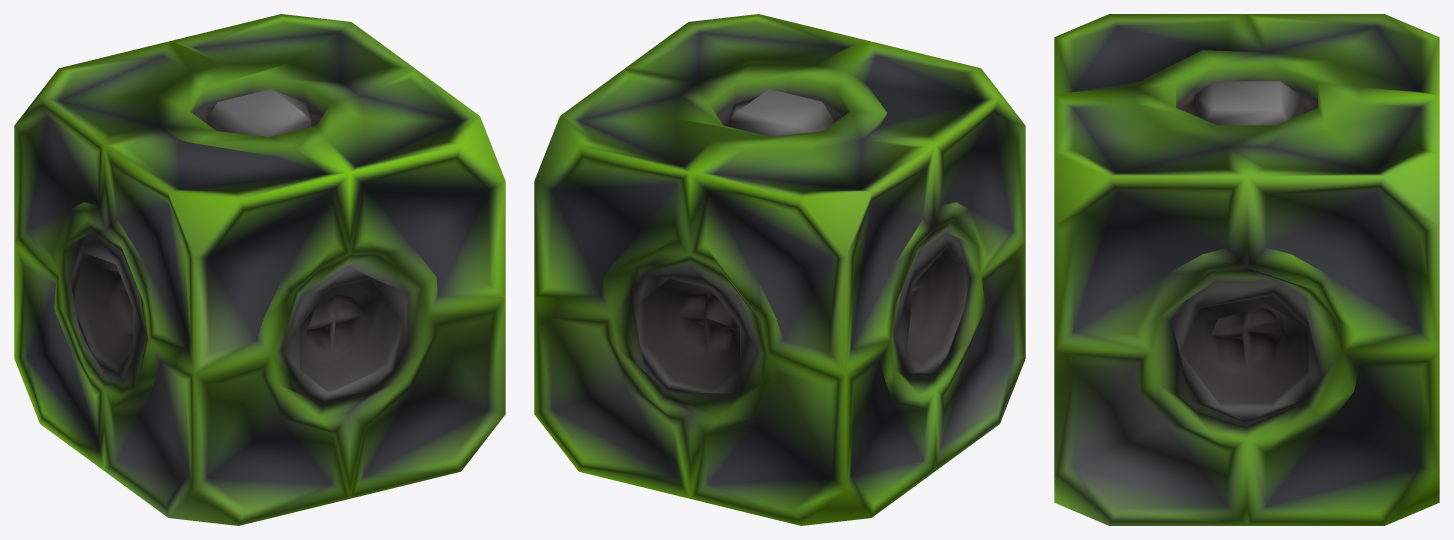
The model's file is junction_box_lod3.glb.
3 views of the same model, side by side, from view 1: azimuth 30°, elevation 25°; view 2: azimuth 150°, elevation 25°; view 3: azimuth 270°, elevation 25° (orthographic). The views are drawn at different scales.
Visible parts, largest first — view 1: junction_box; view 2: junction_box; view 3: junction_box.
Boxes of the visible parts, box(x1,y1,x2,y2) form: junction_box: box(14, 14, 505, 525); junction_box: box(534, 14, 1025, 525); junction_box: box(1054, 14, 1439, 525).
Size of the model in its own units: 2 by 2 by 2.
